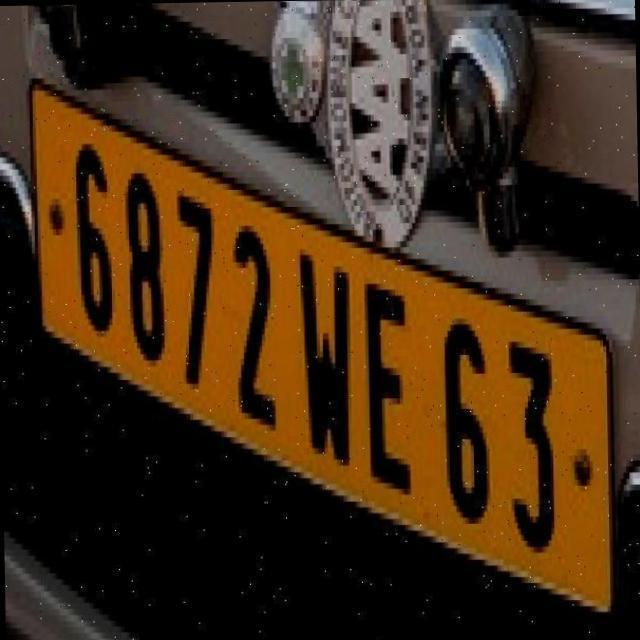License Plate: (25, 57, 621, 628)
